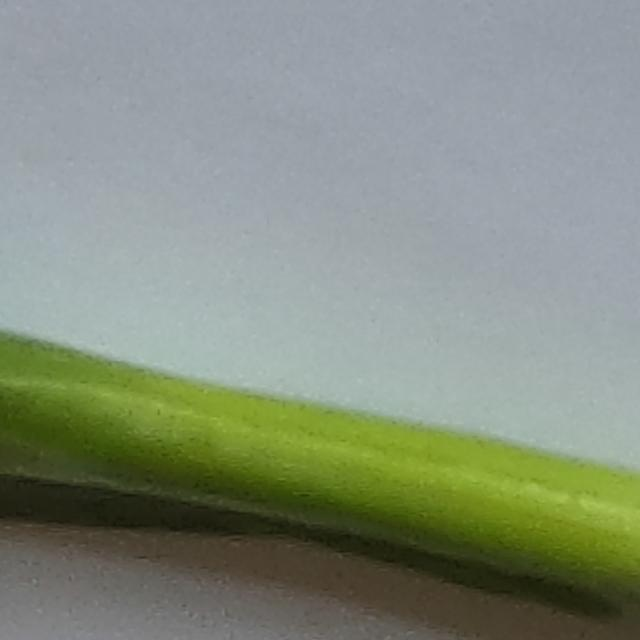green_onion: (0, 334, 640, 640)
